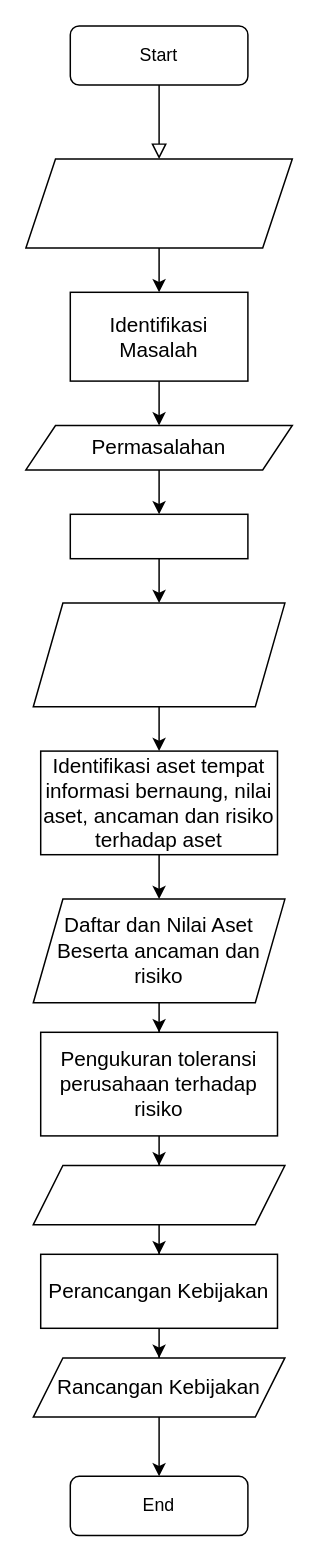
The diagram is 318 pixels wide and 1561 high, and some of its shapes have lost their labels. Here are the shapes that lost their labels. From the top down, the box of each, then its label:
(24, 158, 292, 248): input : Wawancara dan observasi
(69, 513, 248, 559): Studi Literatur
(32, 602, 285, 707): Standar, Metodologi, Kerangka Kerja
(32, 1164, 285, 1225): Prioritas Kontrol
